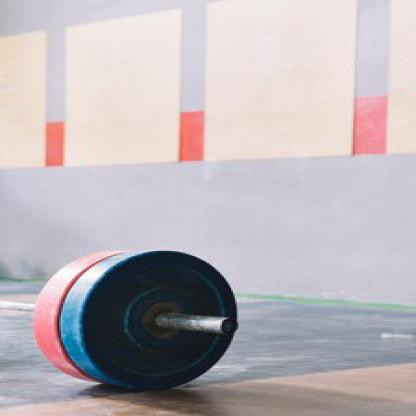Barbell: (56, 244, 248, 398)
